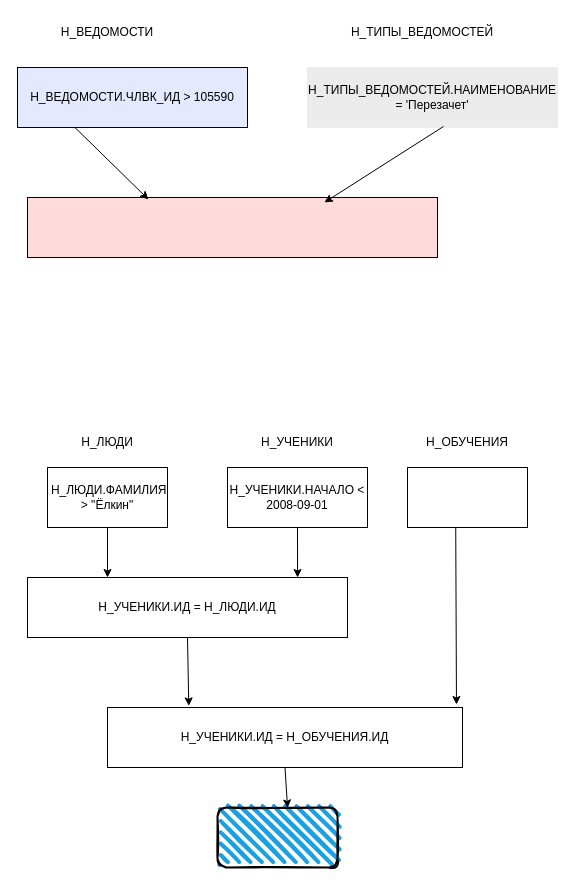
The diagram is 575 pixels wide and 885 high, and some of its shapes have lost their labels. The centre of each missing label's shape, as x and y in pixels:
"Н_ОБУЧЕНИЯ.НЗК < 999080" goes at [467,497].
"Н_ТИПЫ_ВЕДОМОСТЕЙ.ИД = Н.ВЕДОМОСТИ.ТВ_ИД" goes at [232,227].
"РЕЗУЛЬТАТ" goes at [277,837].
